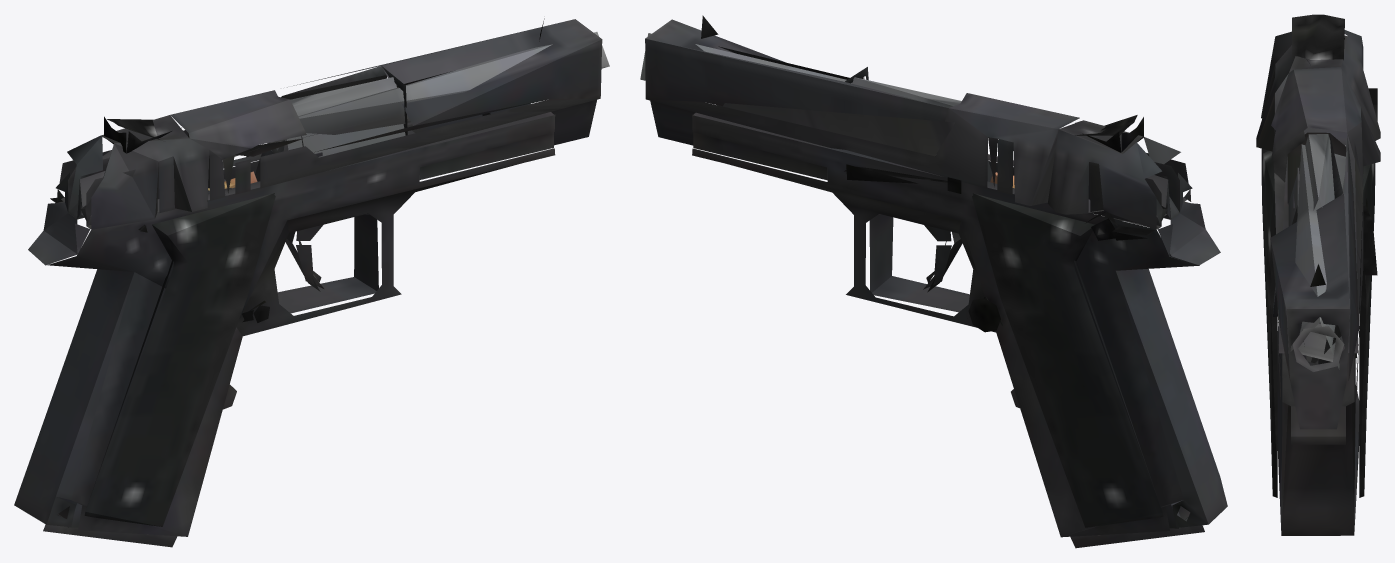
File: pistol_low.glb
The picture shows the model from 3 angles, left to right: view 1: azimuth 30°, elevation 25°; view 2: azimuth 150°, elevation 25°; view 3: azimuth 270°, elevation 25°; orthographic projection. The views are drawn at different scales.
Visible parts, largest first — view 1: body, slide, mag, trigger; view 2: body, slide, mag, trigger; view 3: slide, body.
Part boxes in pixels (<box>): body: <box>14,32,609,536</box>; slide: <box>57,18,602,229</box>; mag: <box>43,179,231,547</box>; trigger: <box>285,224,323,291</box>; body: <box>640,33,1227,537</box>; slide: <box>645,15,1191,229</box>; mag: <box>1070,500,1204,548</box>; trigger: <box>923,225,962,292</box>; slide: <box>1256,14,1380,429</box>; body: <box>1261,88,1377,535</box>.
Bounding box in the file's own units: 0.2018 × 0.1463 × 0.0323.
1 material, 1 textured.
